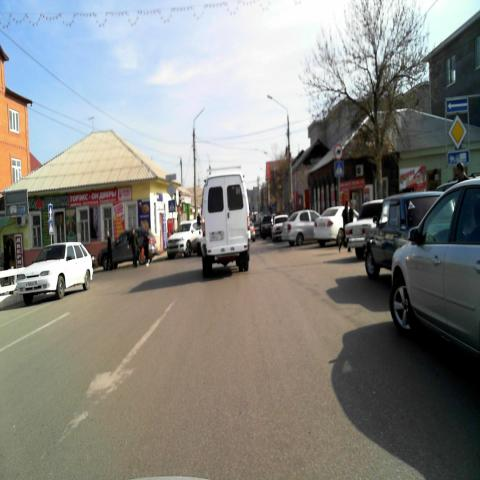3_4_1: (334, 143, 342, 159)
5_7_2: (446, 98, 468, 113)
